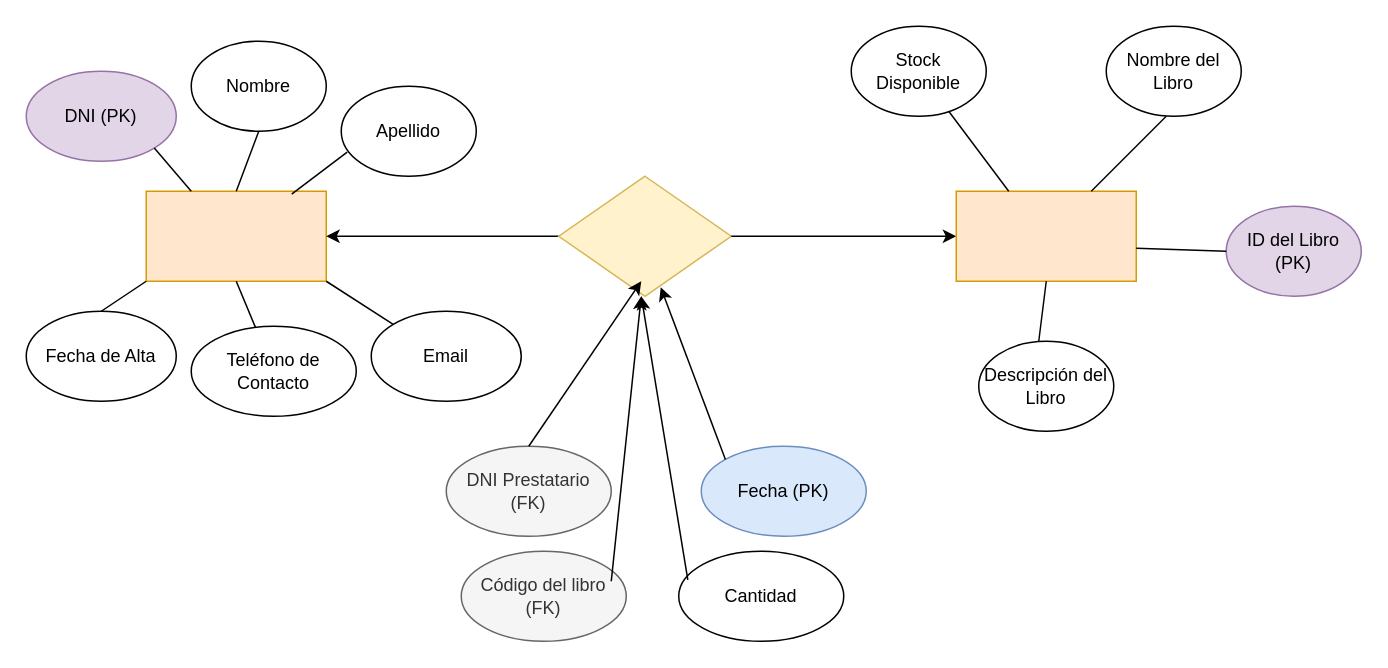
This 1388x668 diagram has some shape labels left out. Here are the shapes that lost their labels. From the top down, the centre of each, then its label:
(235,235): Prestatario
(644,235): Préstamo
(1045,235): Libros
